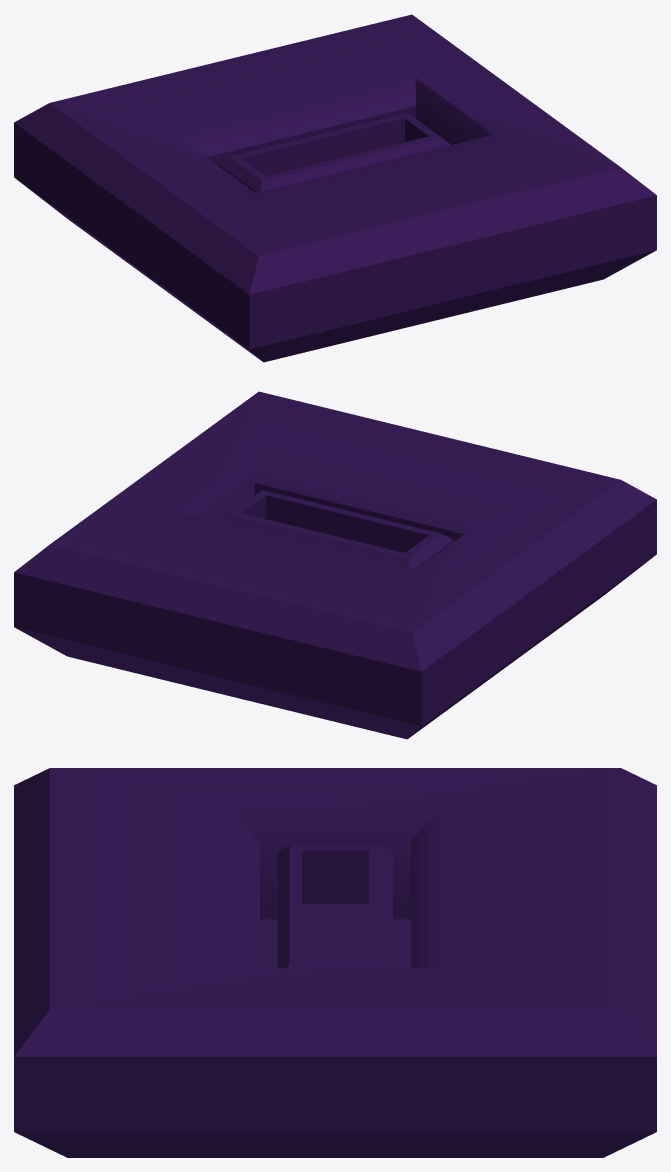
The model's file is Dizuo_YG.fbx.
3 views of the same model, one above another, from view 1: azimuth 30°, elevation 25°; view 2: azimuth 150°, elevation 25°; view 3: azimuth 270°, elevation 25° (orthographic). The views are drawn at different scales.
Visible parts, largest first — view 1: 柱体.001; view 2: 柱体.001; view 3: 柱体.001.
Boxes of the visible parts, x1,y1,x2,y2 form: 柱体.001: (14,14,656,362); 柱体.001: (14,391,656,739); 柱体.001: (14,768,656,1157).
Bounding box in the file's own units: 100 × 26.69 × 100.
